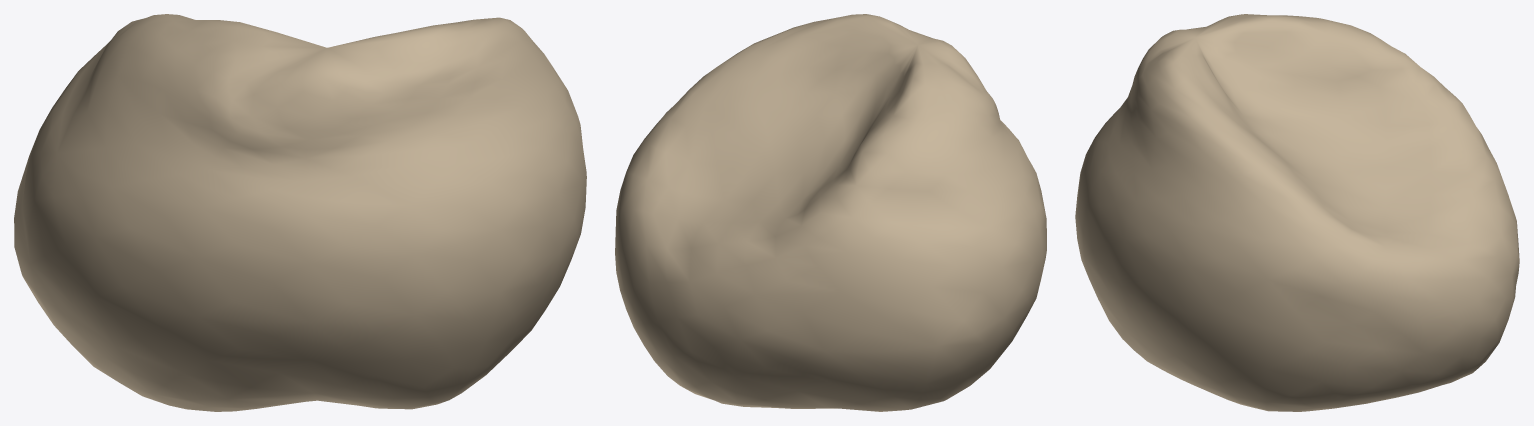
The model's file is Beanbag.fbx.
3 views of the same model, side by side, from view 1: azimuth 30°, elevation 25°; view 2: azimuth 150°, elevation 25°; view 3: azimuth 270°, elevation 25° (orthographic). The views are drawn at different scales.
Visible parts, largest first — view 1: Beanbag; view 2: Beanbag; view 3: Beanbag.
Part boxes in pixels (box(x1,y1,x2,y2)): Beanbag: box(14, 14, 586, 411); Beanbag: box(615, 14, 1046, 411); Beanbag: box(1075, 14, 1519, 411).
Bounding box in the file's own units: 181 × 131 × 172.
